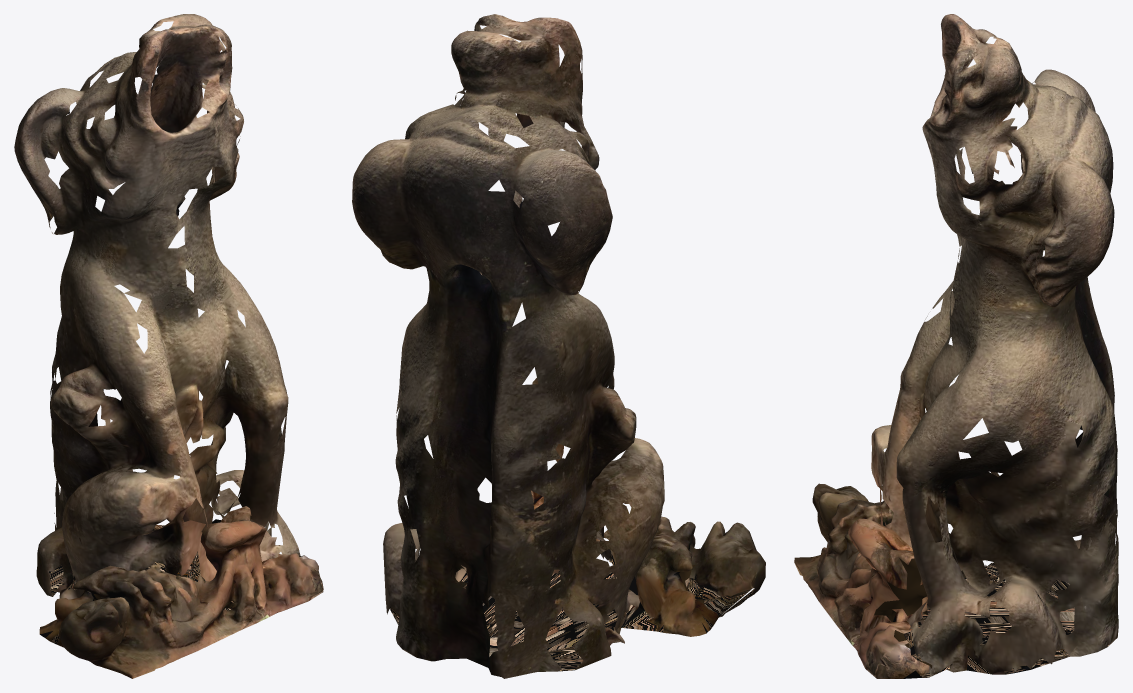
File: 04_fantasy-dog.gltf
The picture shows the model from 3 angles, left to right: view 1: azimuth 30°, elevation 25°; view 2: azimuth 150°, elevation 25°; view 3: azimuth 270°, elevation 25°; orthographic projection. The views are drawn at different scales.
Visible parts, largest first — view 1: Mesh_0; view 2: Mesh_0; view 3: Mesh_0.
Boxes of the visible parts, x1=… form: Mesh_0: x1=14, y1=14, x2=323, y2=678; Mesh_0: x1=352, y1=14, x2=765, y2=678; Mesh_0: x1=794, y1=14, x2=1118, y2=678.
Bounding box in the file's own units: 1.77 × 3.42 × 1.68.
Materials: 12 (12 with a texture image).
